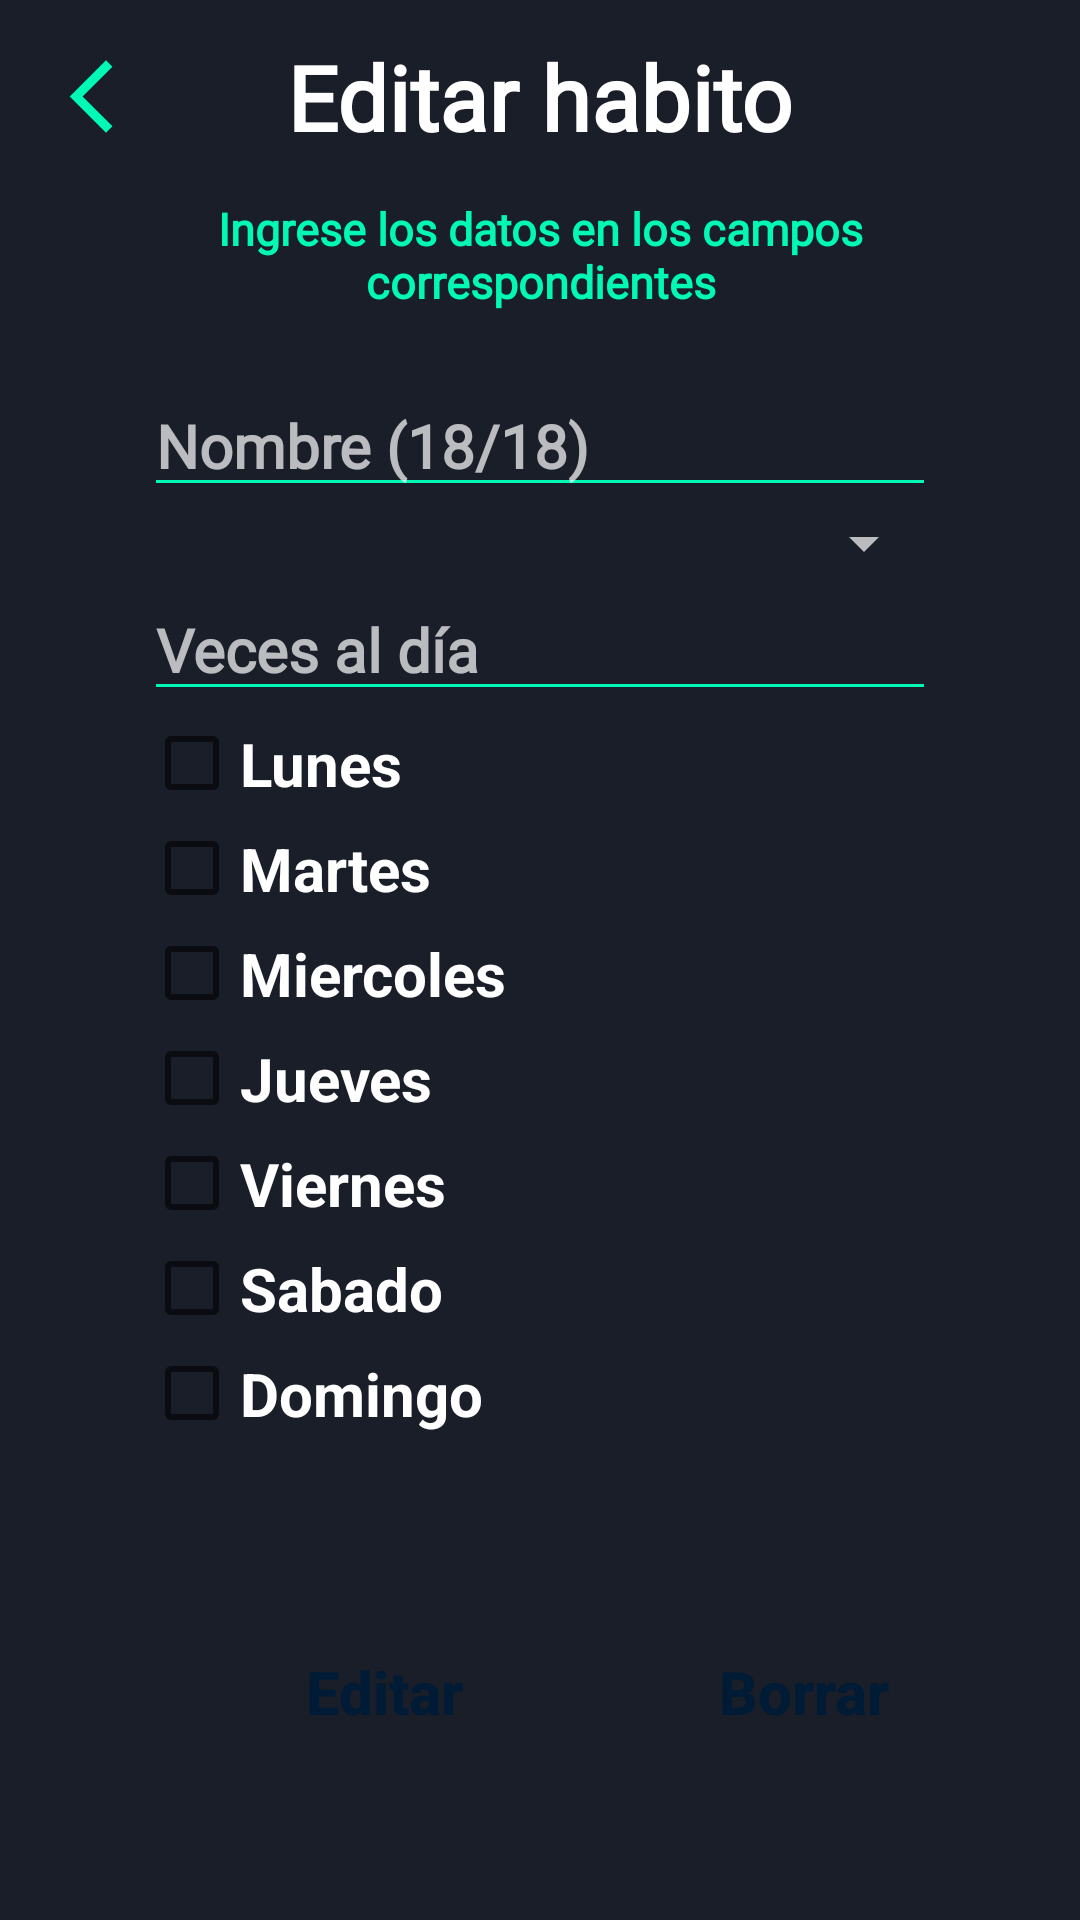

Icons on this 1080x1920 Android screen, each with the point to tap as [x,y]:
arrow back: [91,96]
